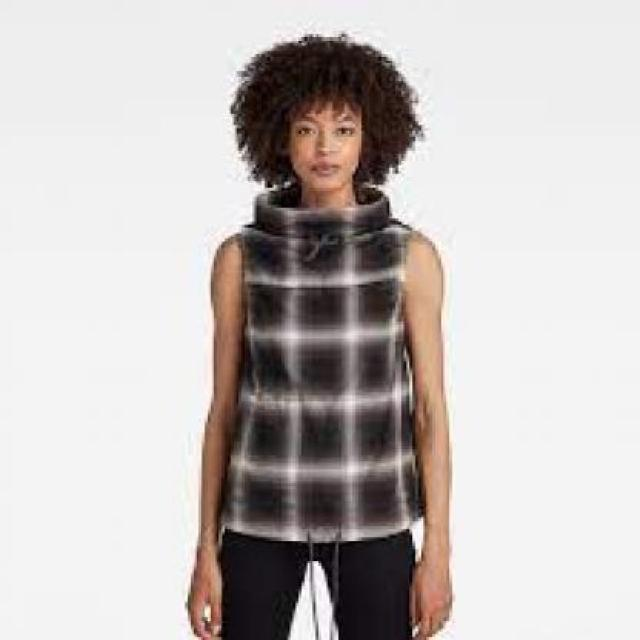no_vest: (223, 185, 428, 542)
